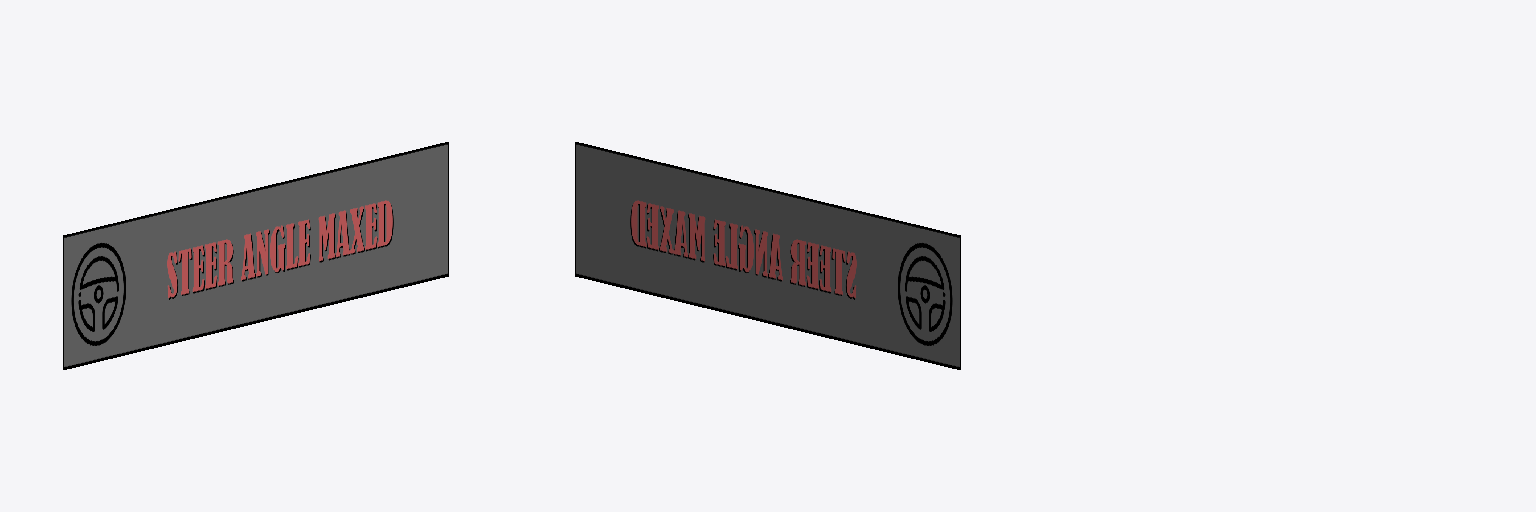
The picture shows the model from 3 angles: view 1: azimuth 30°, elevation 25°; view 2: azimuth 150°, elevation 25°; view 3: azimuth 270°, elevation 25°; orthographic projection.
Visible parts, largest first — view 1: Plane.004; view 2: Plane.004; view 3: none.
Part boxes in pixels (x1,y1,x2,y2): Plane.004: (63,142,448,369); Plane.004: (575,142,960,369).
Size of the model in its own units: 0.9 by 0.3 by 0.
1 materials, 1 textured.